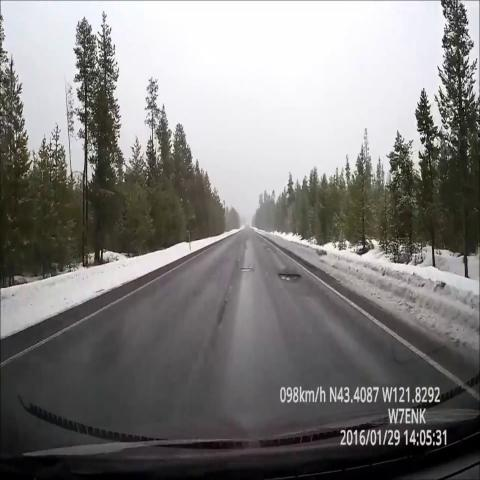pothole: (277, 262, 307, 289), (235, 259, 255, 280)
